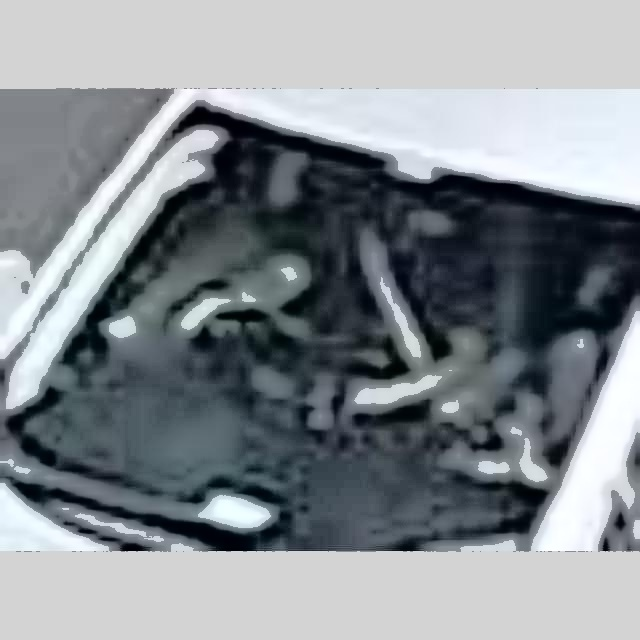pakai: (193, 174, 509, 421)
